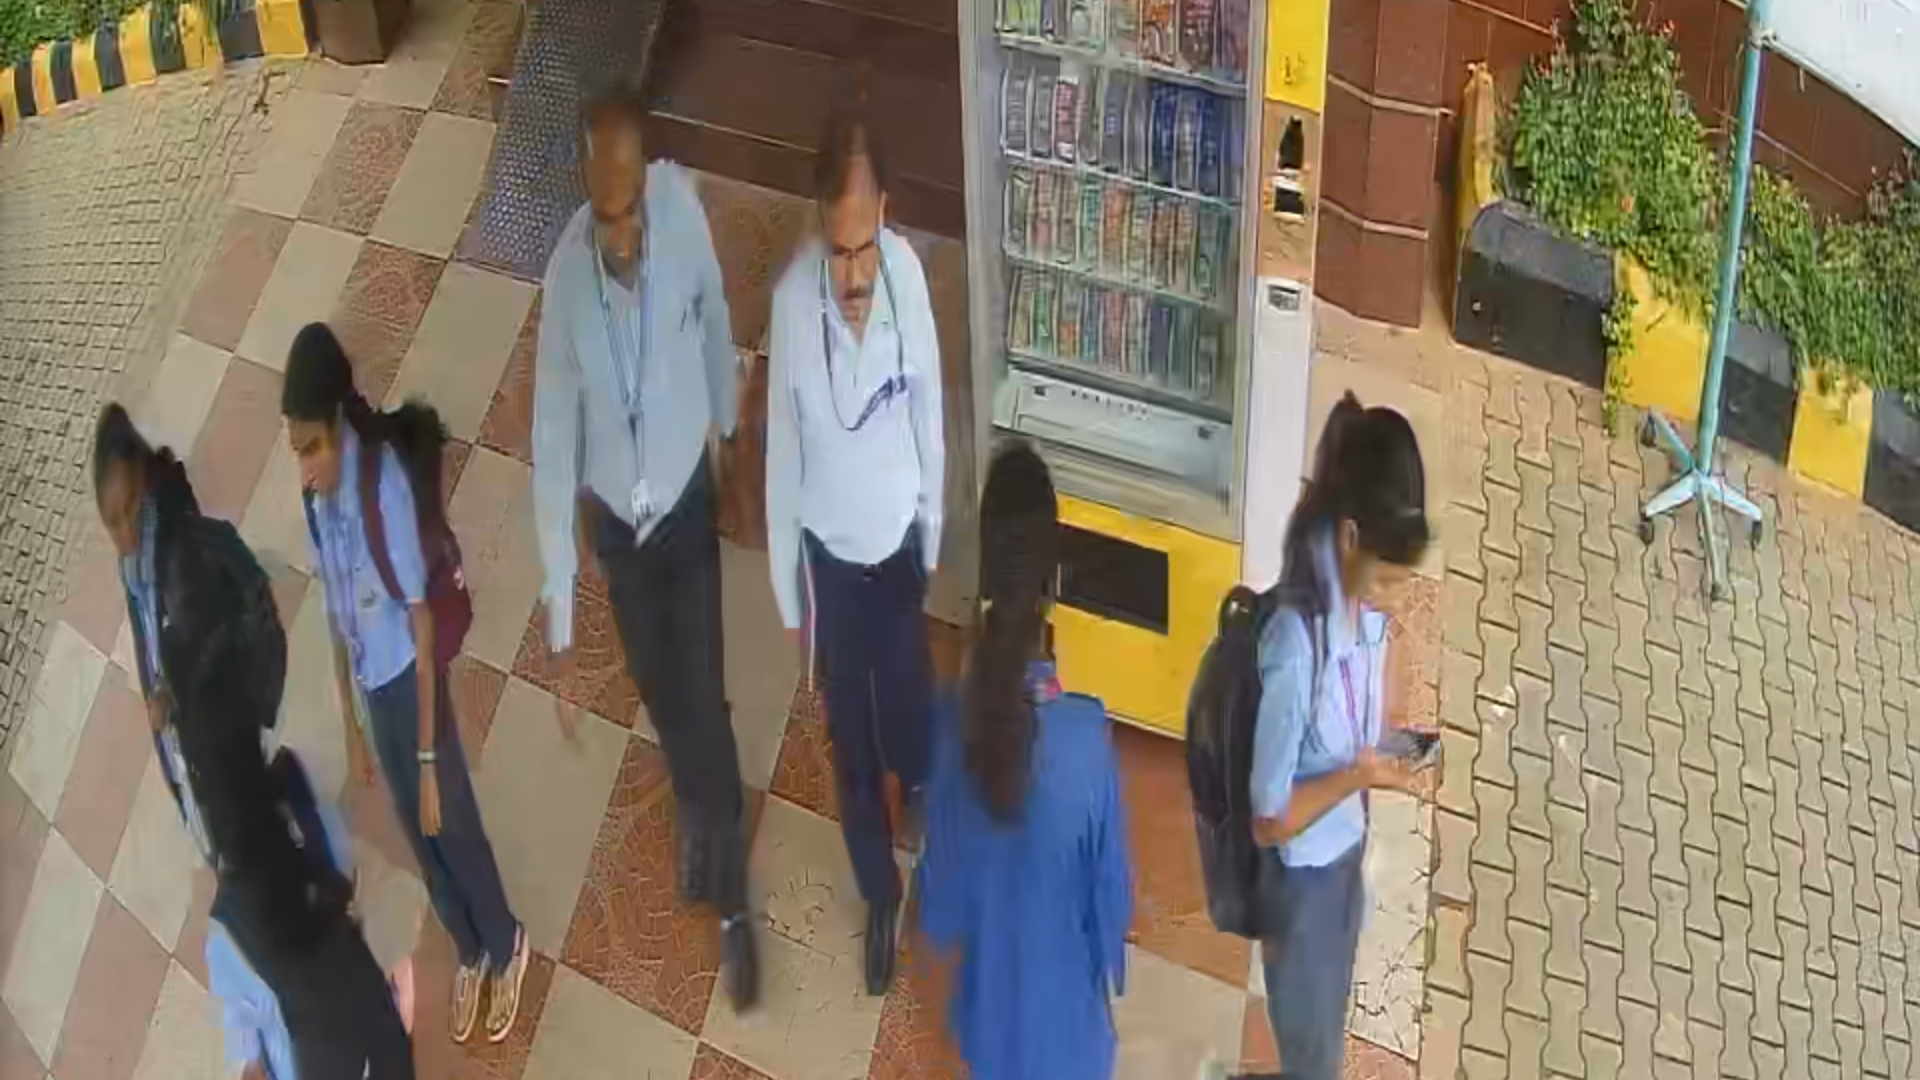intruder: (276, 326, 546, 1058), (105, 381, 278, 927)
not intruder: (530, 92, 798, 993), (725, 99, 971, 880), (1229, 365, 1443, 1080)
